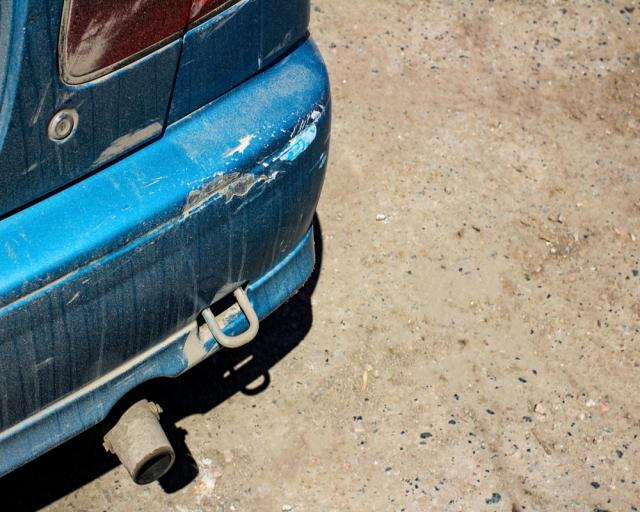scratch: (174, 105, 323, 222)
